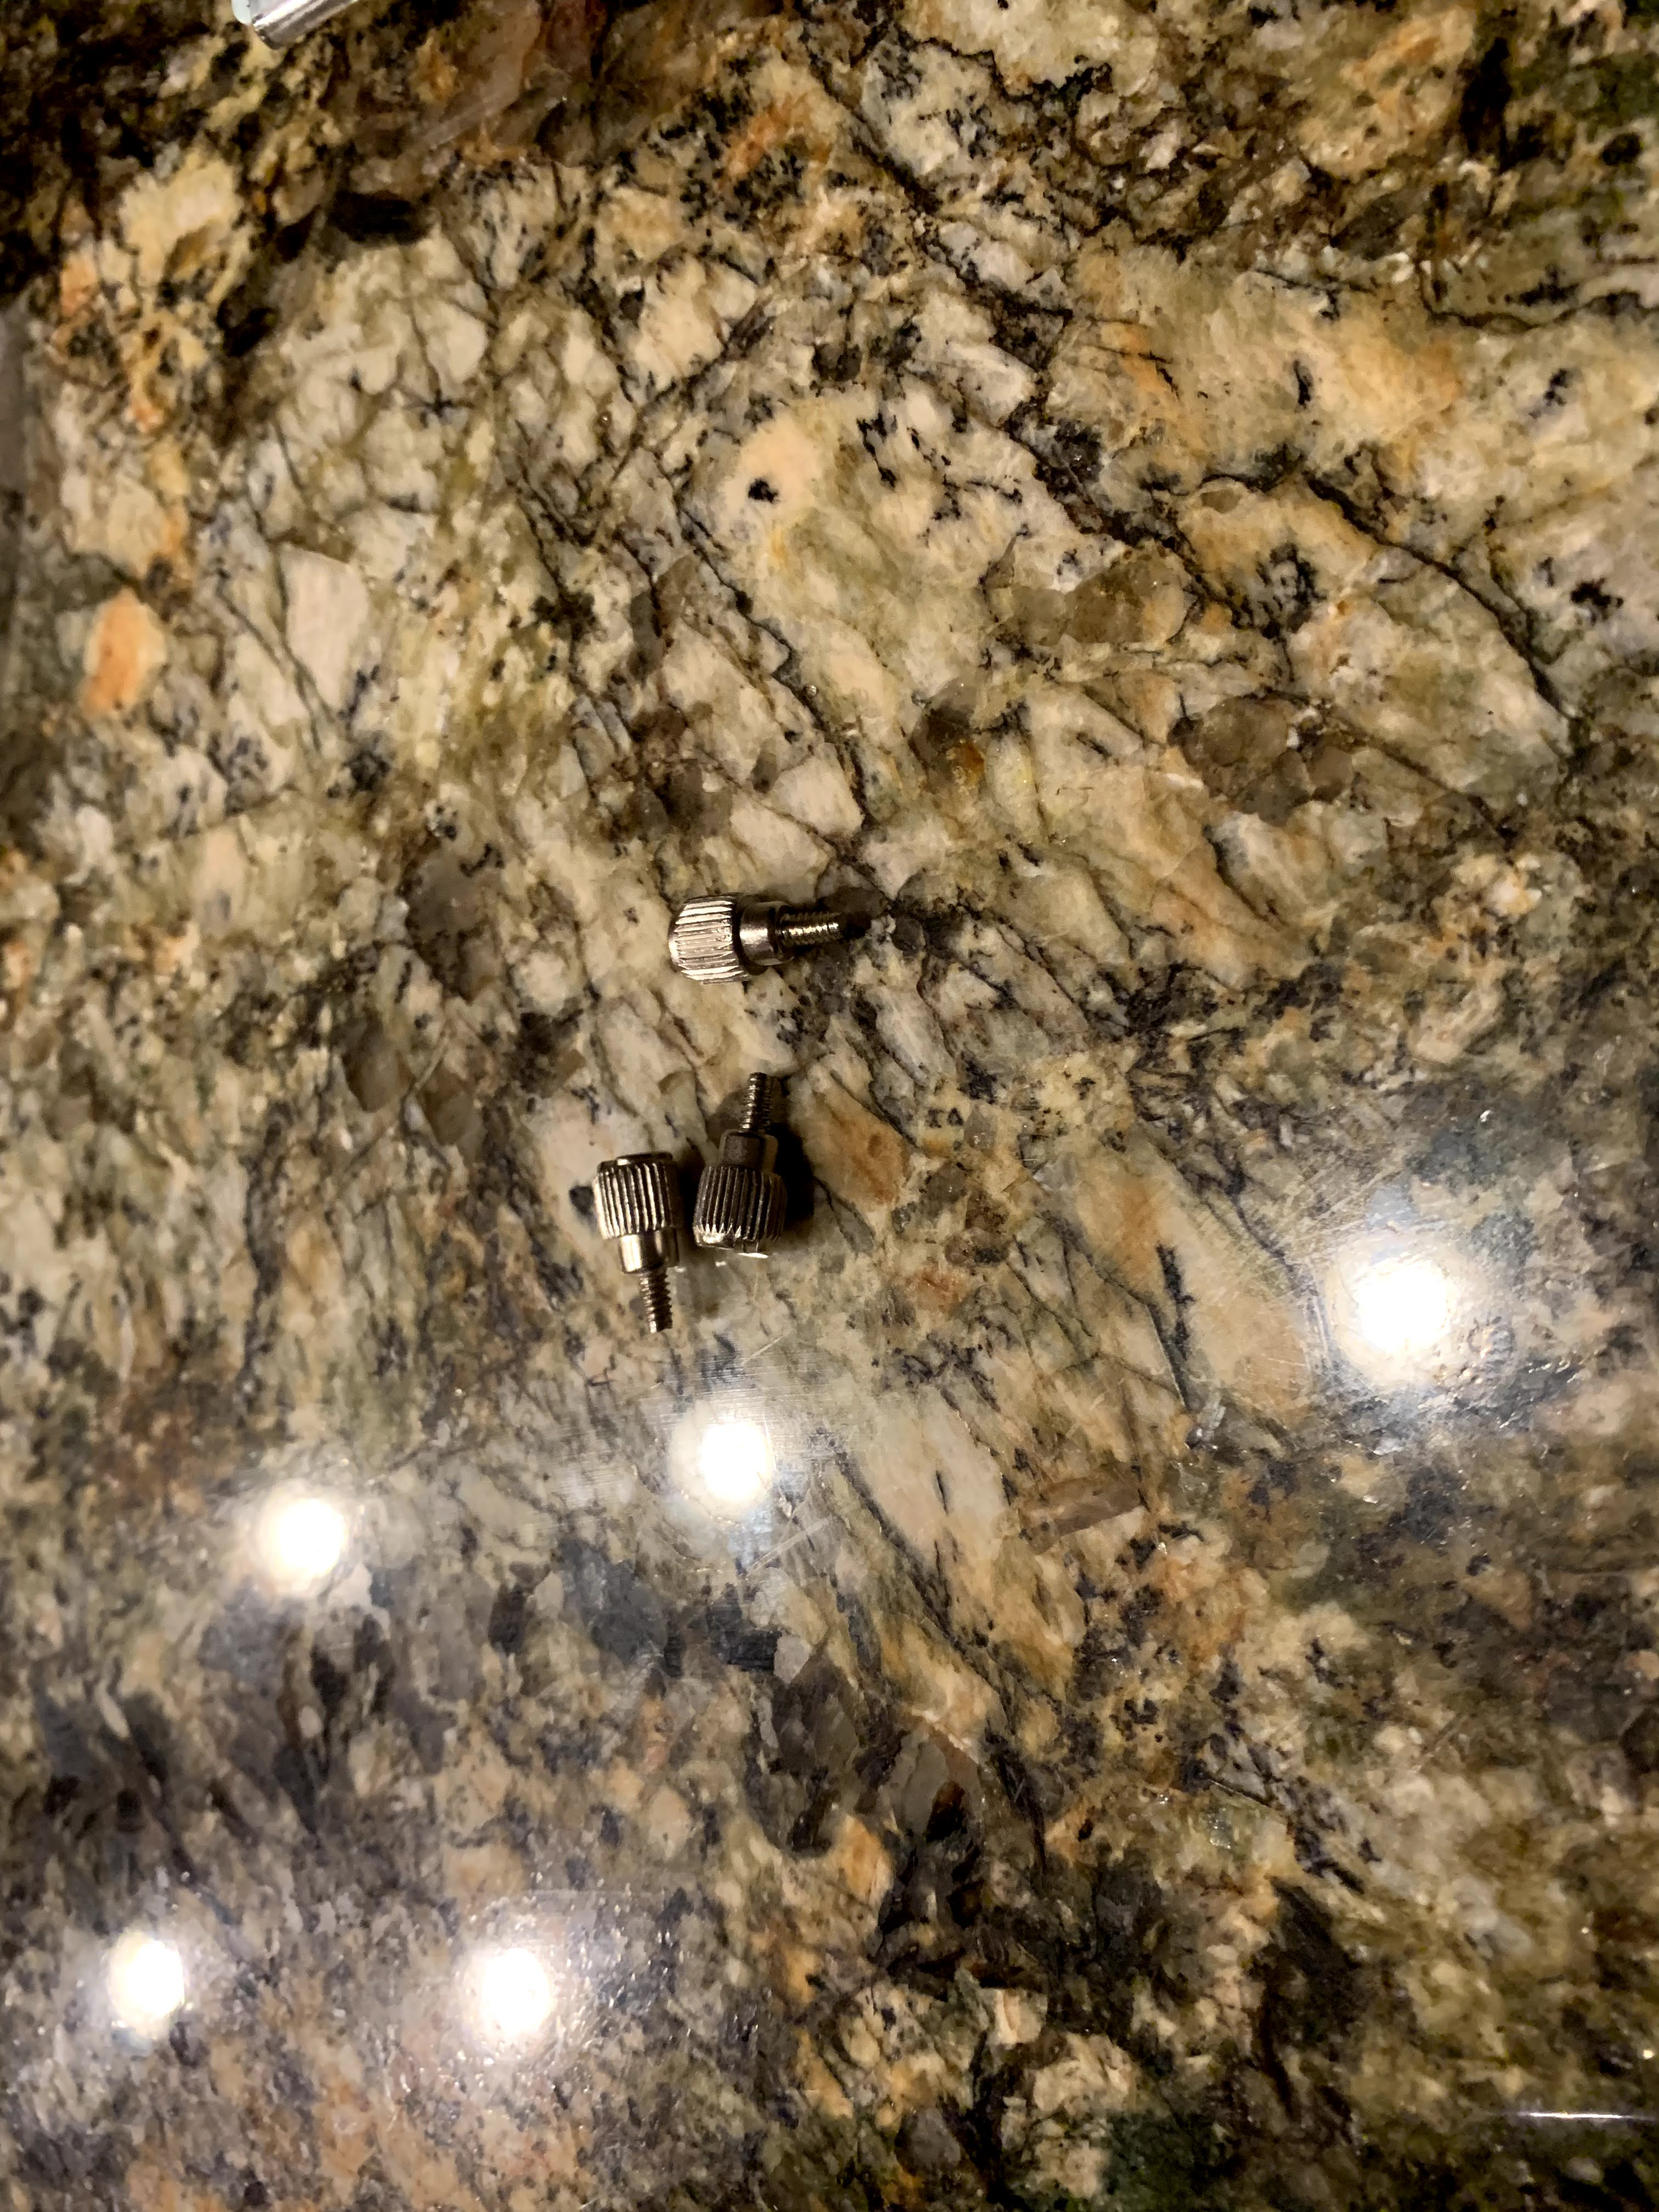Space-debris-small: (687, 1066, 809, 1258), (666, 880, 864, 991), (587, 1146, 681, 1341)
